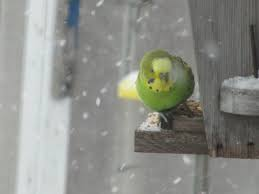budgie: (137, 50, 195, 121)
